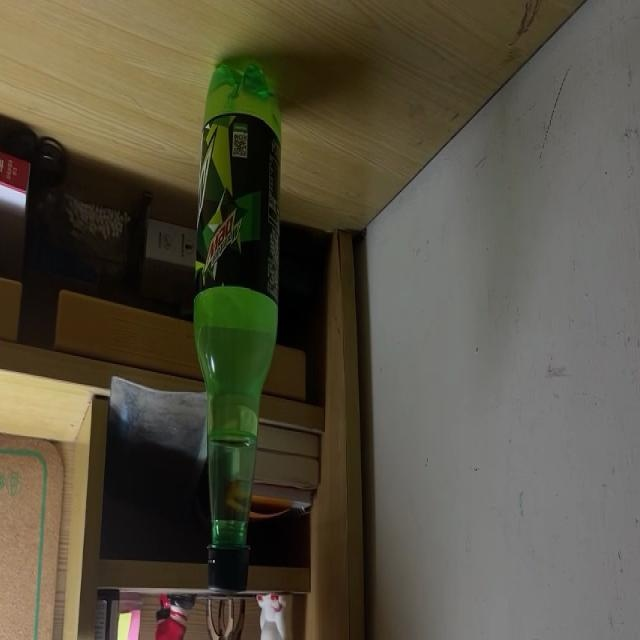Mountain-Dew: (193, 56, 282, 595)
